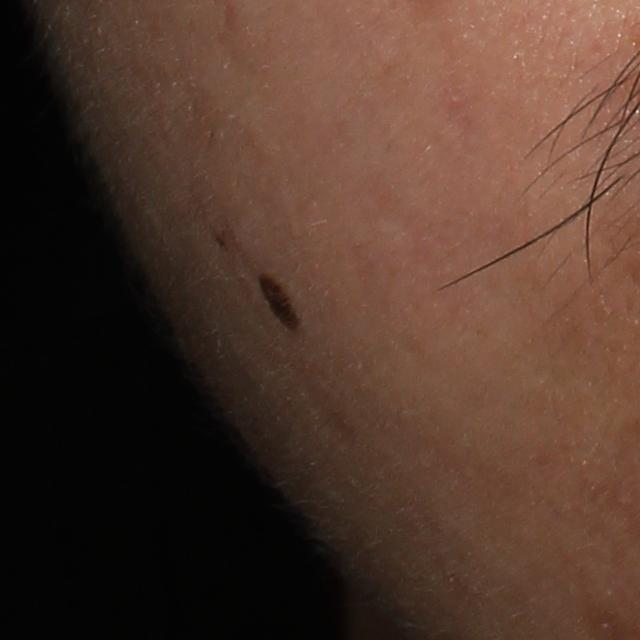nevus: (256, 271, 304, 335)
